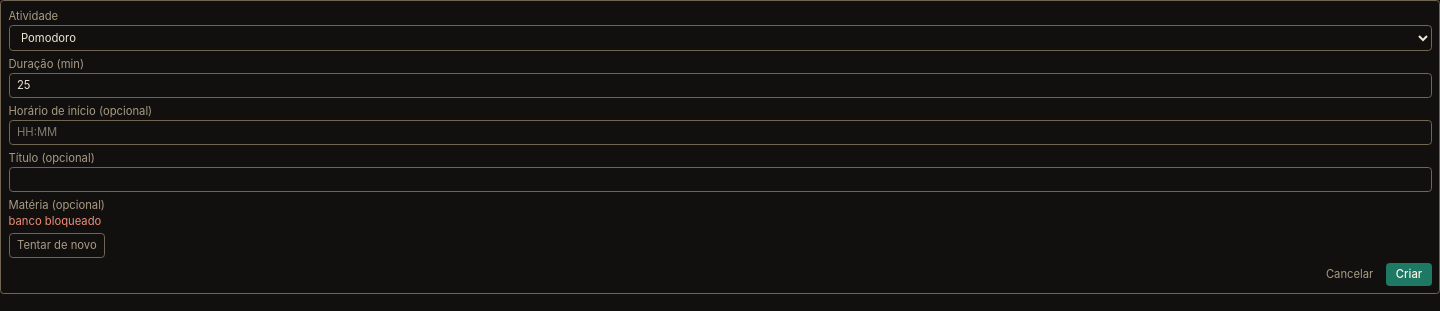
Scenario: NovoBlocoForm › falha ao listar matérias mostra o erro em vez de um seletor vazio, e permite tentar de novo
expect the message reads "banco bloqueado": met, box 8,214 -> 101,228
Click the button "Tentar de novo" at (57, 245), box 8,233 -> 105,258
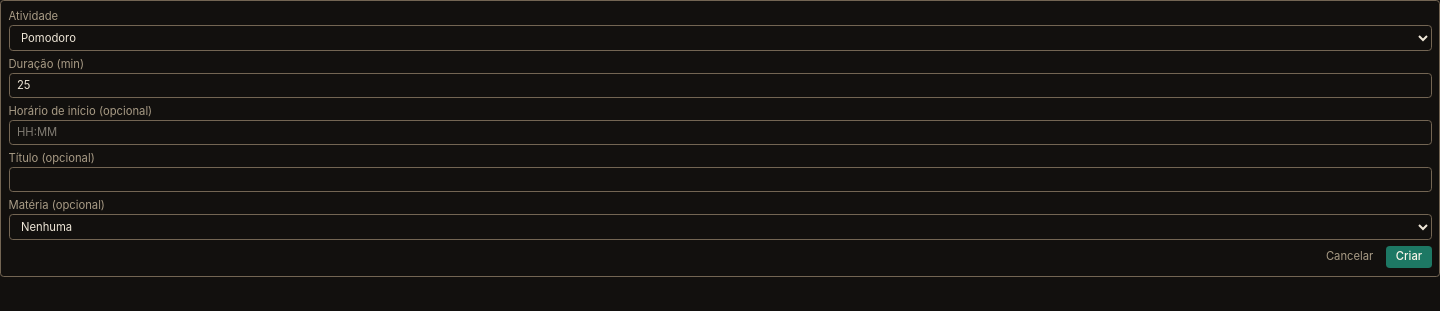
expect the dropdown named "Matéria (opcional)" is shown: met, box 8,214 -> 1432,240
